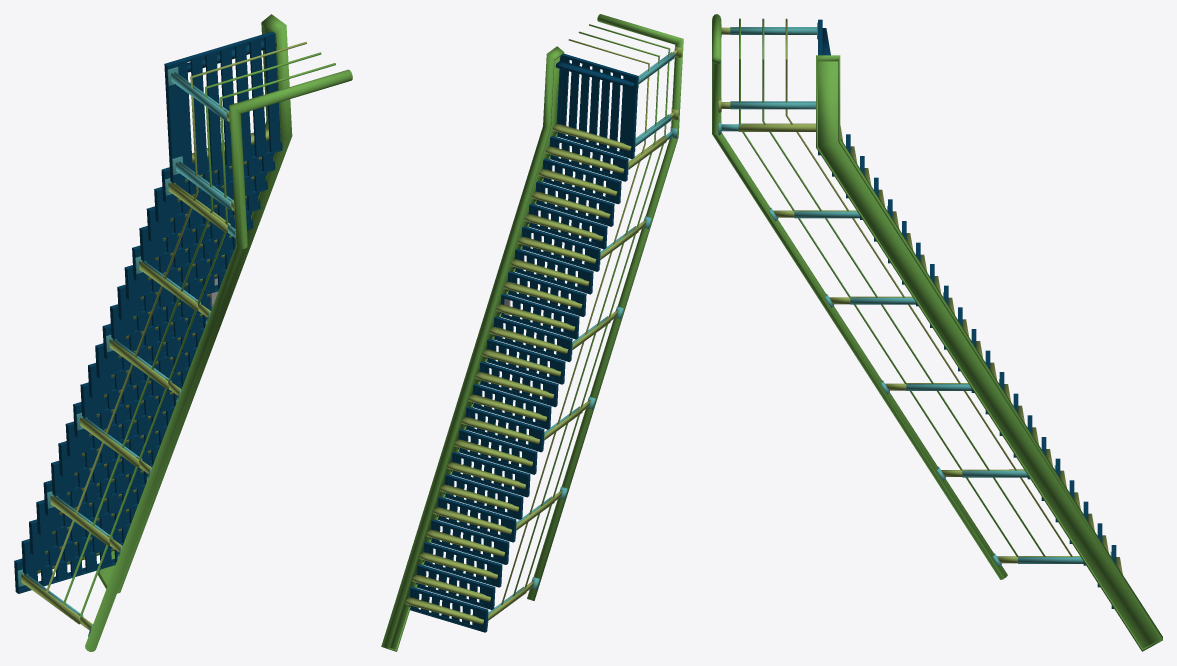
The model's file is 3DStairs_Meshlab.obj.
3 views of the same model, side by side, from view 1: azimuth 30°, elevation 25°; view 2: azimuth 150°, elevation 25°; view 3: azimuth 270°, elevation 25° (orthographic). The views are drawn at different scales.
Size of the model in its own units: 1.52 by 6.79 by 4.76.
